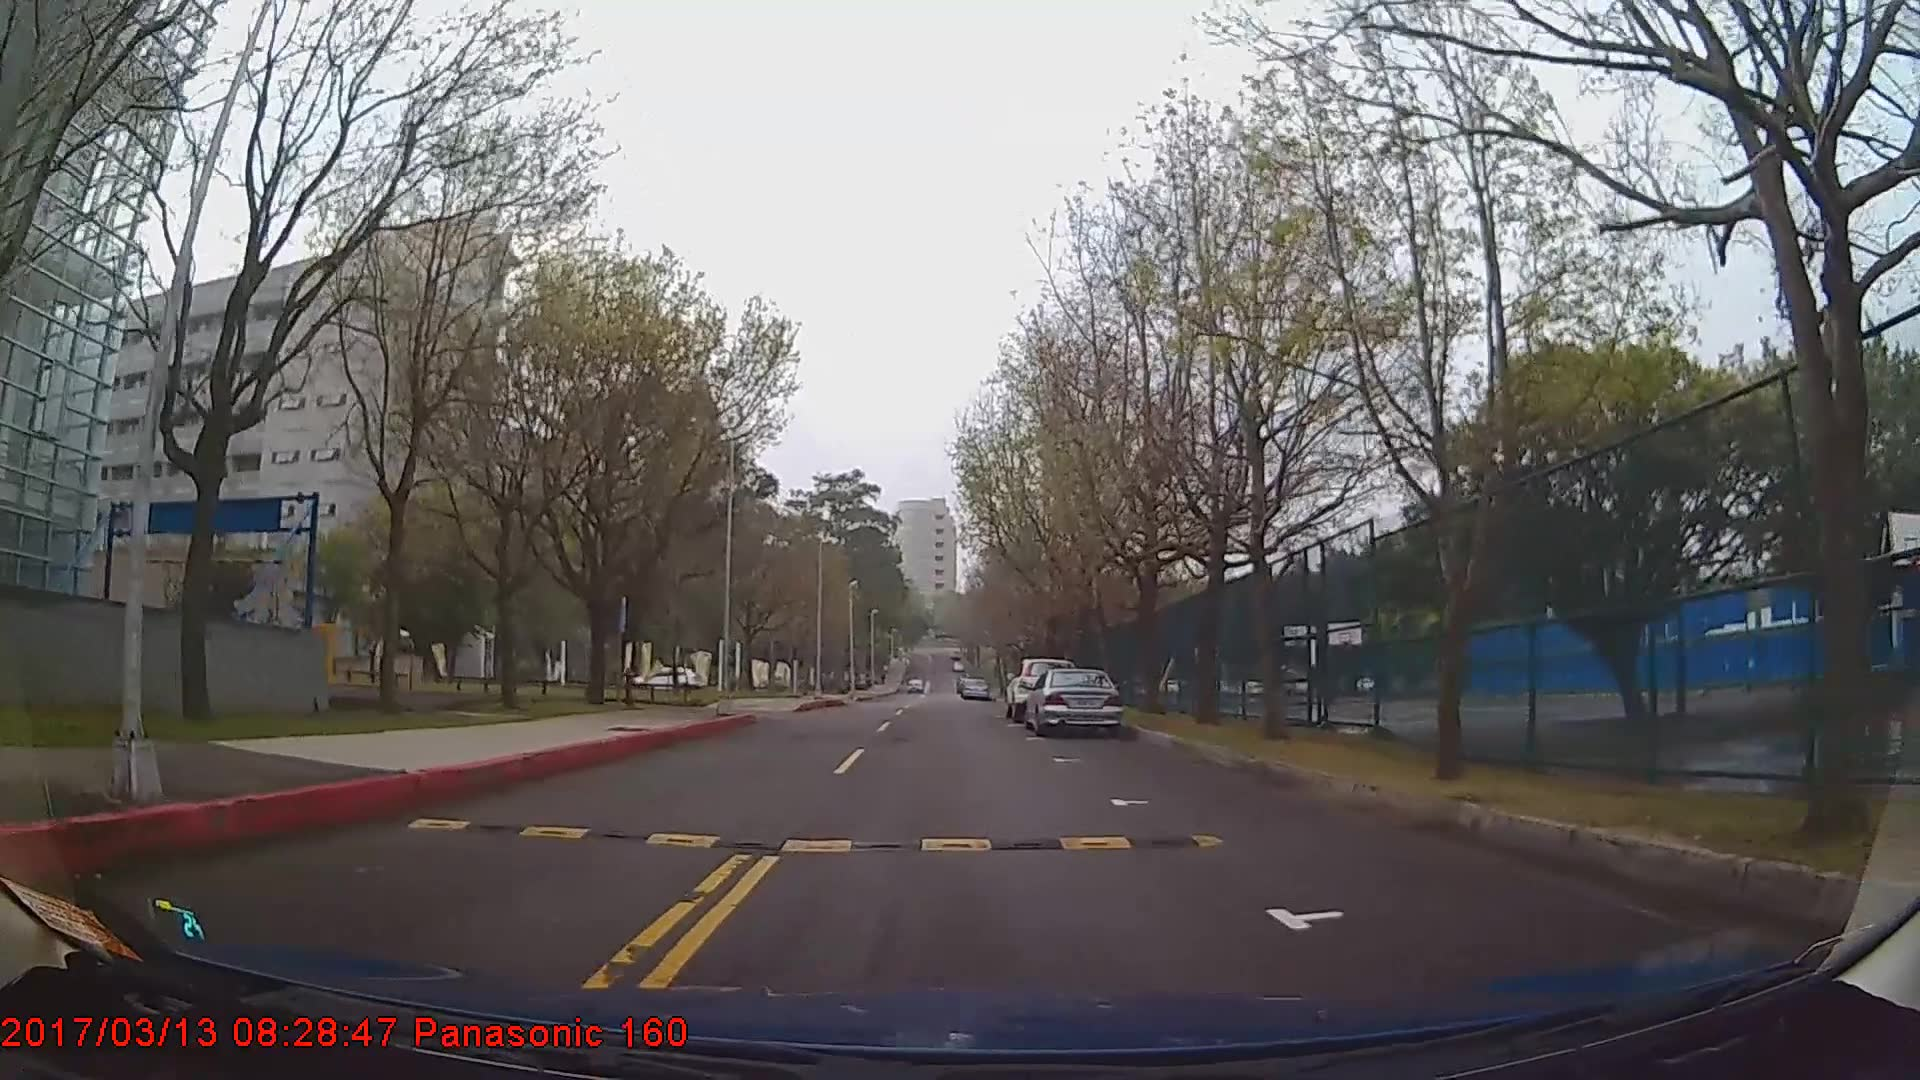vehicle: (1023, 667, 1125, 735), (1006, 659, 1077, 725), (957, 675, 988, 700)
